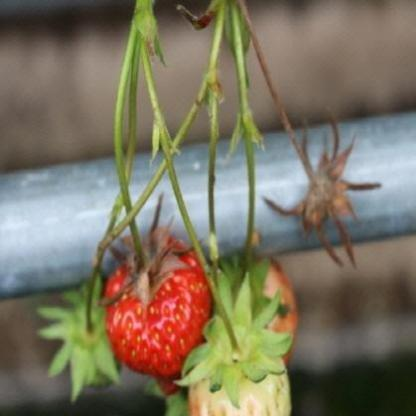Strawberry_Gray_Mold: (263, 114, 380, 268)
